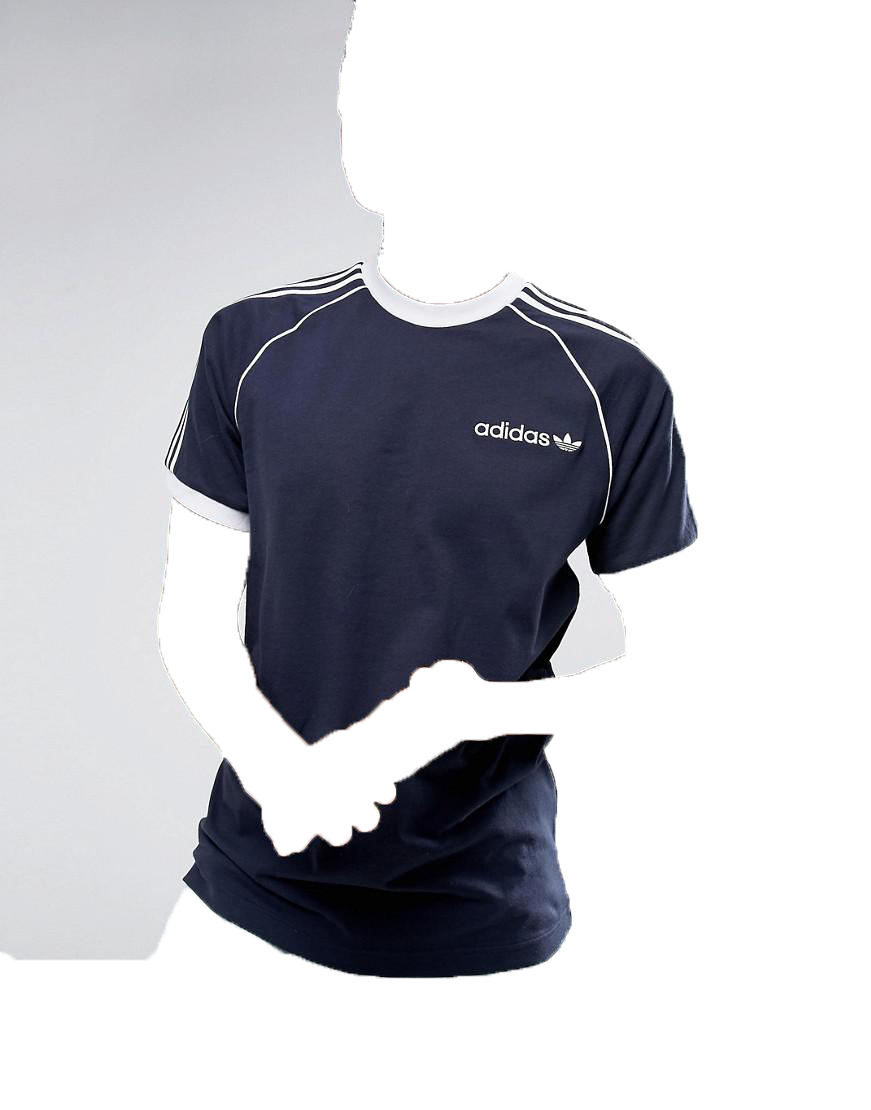teeshirt: (152, 252, 701, 988)
